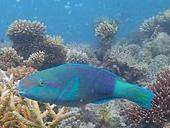Scaridae -Parrotfishes-: (15, 54, 159, 120)
